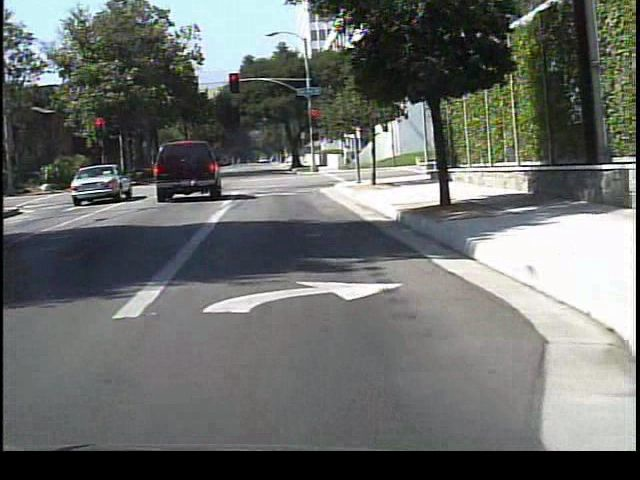person: (339, 144, 354, 172)
